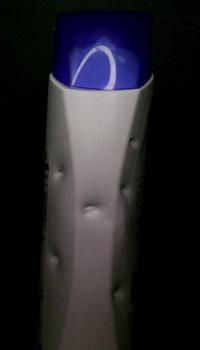dent_unacceptable: (48, 154, 82, 182), (102, 279, 131, 311), (75, 197, 109, 219), (114, 130, 145, 152), (46, 248, 68, 275), (108, 174, 131, 196)
